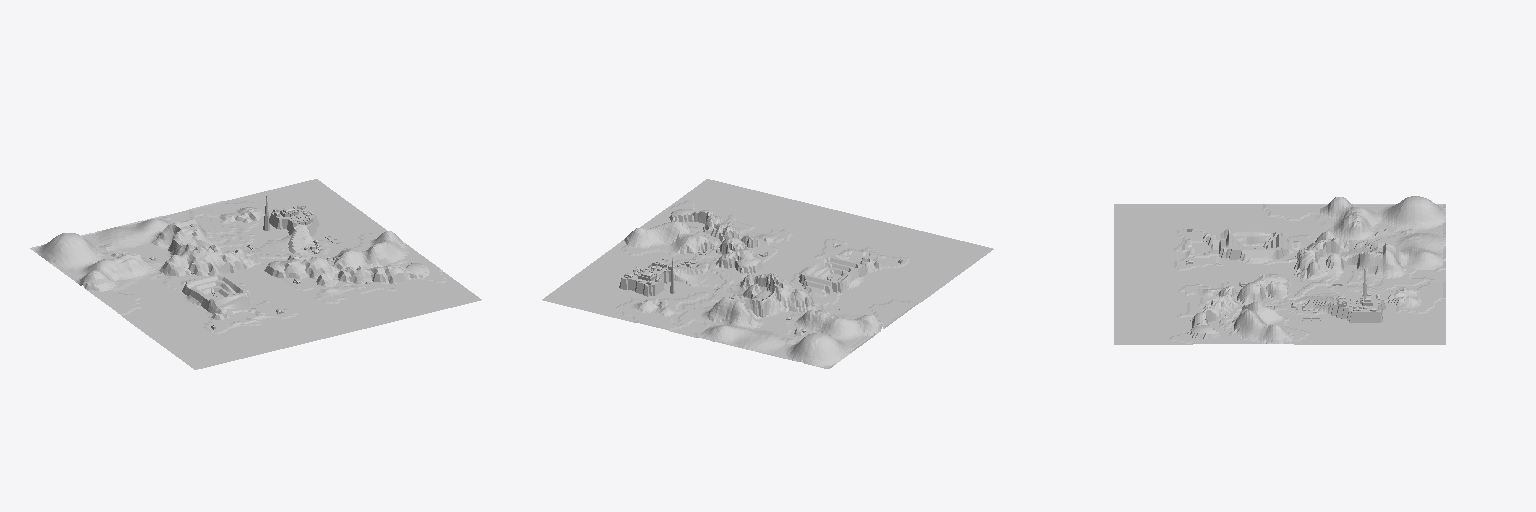
The model's file is OutD3.Odm.obj.
3 views of the same model, side by side, from view 1: azimuth 30°, elevation 25°; view 2: azimuth 150°, elevation 25°; view 3: azimuth 270°, elevation 25° (orthographic).
Visible parts, largest first — view 1: _Ground_; view 2: _Ground_; view 3: _Ground_.
Part boxes in pixels (x1,y1,x2,y2): _Ground_: (30, 179, 481, 369); _Ground_: (542, 179, 993, 368); _Ground_: (1114, 196, 1445, 344).
Size of the model in its own units: 65024 by 8000 by 65024.